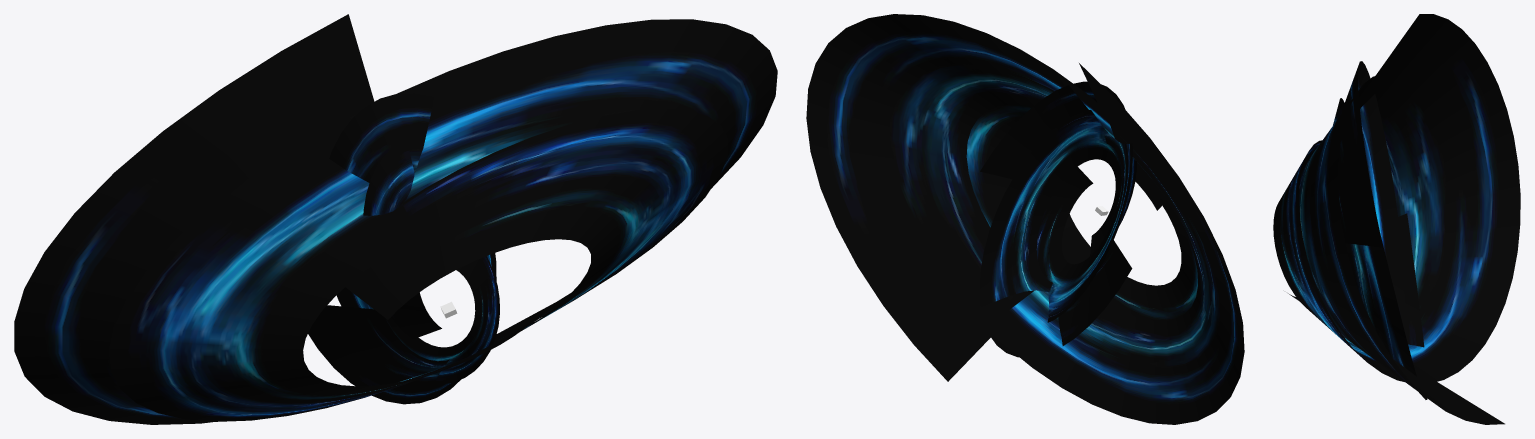
3 renders of one model, left to right at view 1: azimuth 30°, elevation 25°; view 2: azimuth 150°, elevation 25°; view 3: azimuth 270°, elevation 25°, orthographic. The views are drawn at different scales.
Visible parts, largest first — view 1: Helix01 (×4); view 2: Helix01 (×4); view 3: Helix01 (×4).
Boxes of the visible parts, bbox=[...] form: Helix01 (×4): bbox=[14, 14, 777, 424]; Helix01 (×4): bbox=[806, 14, 1244, 424]; Helix01 (×4): bbox=[1273, 14, 1520, 424].
Size of the model in its own units: 26.32 by 15.78 by 9.86.
Materials: 2 (1 with a texture image).
